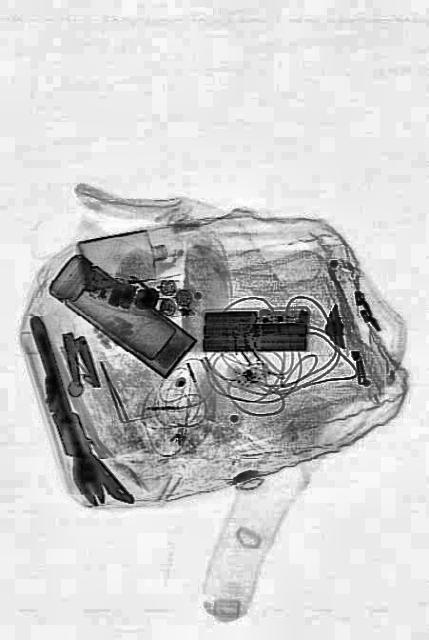Wrench: (20, 310, 108, 512)
